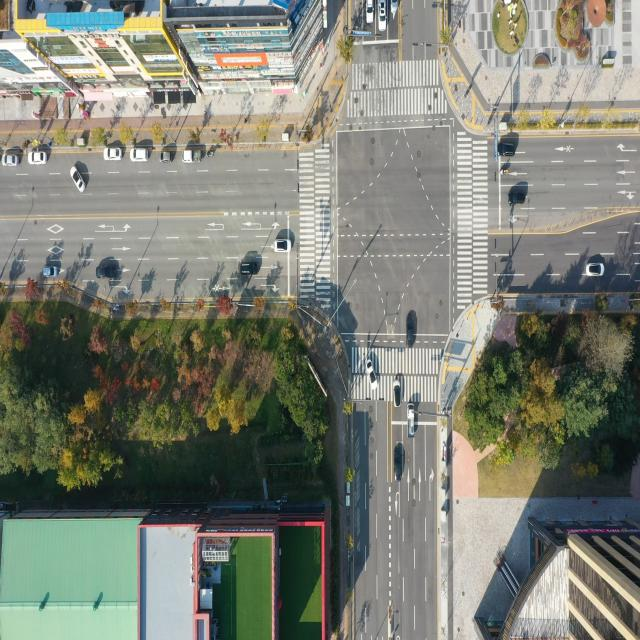car: (70, 167, 86, 193), (95, 263, 116, 279), (394, 445, 403, 481), (367, 361, 377, 391), (29, 150, 48, 165), (105, 146, 124, 160), (587, 264, 605, 278), (131, 148, 149, 162), (394, 378, 402, 408), (379, 4, 387, 34), (2, 155, 19, 169), (274, 240, 292, 253), (407, 316, 415, 345), (507, 192, 524, 205), (241, 262, 258, 275), (66, 0, 84, 12), (365, 0, 373, 24), (499, 144, 515, 156), (161, 150, 175, 163), (42, 268, 58, 279), (390, 0, 398, 13)
small_truck: (182, 150, 202, 162), (408, 403, 414, 436)
